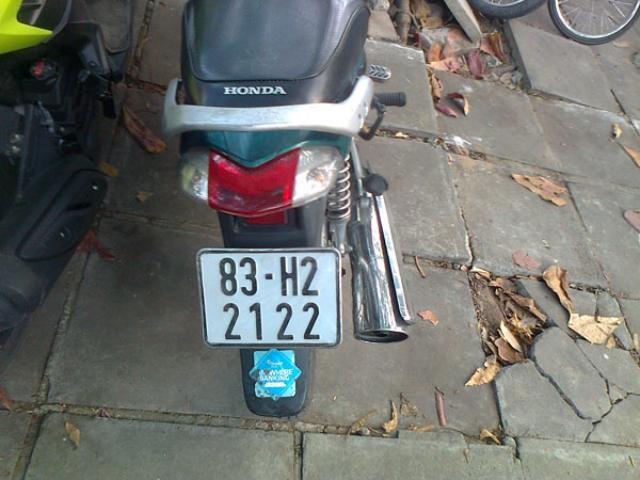plate: (204, 250, 336, 346)
